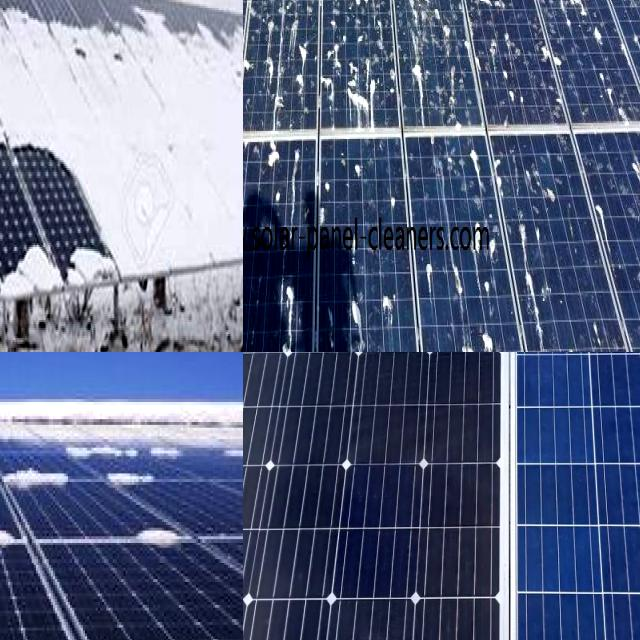bird: (517, 213, 552, 349), (407, 0, 447, 104), (337, 44, 385, 119), (589, 187, 620, 276), (261, 15, 289, 102), (465, 206, 504, 264), (275, 262, 297, 352), (398, 0, 437, 50), (332, 0, 376, 41), (630, 137, 640, 314), (525, 162, 559, 214), (243, 56, 266, 132), (243, 175, 265, 252), (243, 0, 267, 68), (452, 0, 497, 35), (269, 0, 307, 40), (348, 280, 369, 352), (380, 184, 410, 234), (243, 13, 259, 105), (294, 21, 312, 102), (374, 273, 396, 339), (455, 320, 500, 352), (349, 143, 374, 194), (492, 65, 520, 110), (243, 61, 260, 133), (592, 15, 612, 73), (243, 0, 262, 51), (243, 225, 257, 294), (556, 0, 588, 30), (318, 172, 348, 204), (243, 313, 265, 352), (243, 260, 259, 311), (260, 139, 283, 173), (243, 226, 264, 260), (243, 283, 258, 317), (478, 0, 508, 16), (243, 182, 253, 224), (243, 162, 255, 196)
crack: (243, 352, 551, 640), (506, 352, 640, 640)
panel: (0, 0, 105, 147), (101, 160, 226, 266), (112, 11, 204, 148), (42, 384, 222, 442), (0, 152, 66, 304), (0, 9, 53, 144), (0, 224, 58, 301), (214, 18, 243, 156), (1, 455, 93, 498), (0, 513, 59, 575), (0, 380, 69, 429), (110, 449, 165, 504), (0, 386, 67, 427), (128, 518, 190, 562), (66, 235, 113, 288), (0, 459, 66, 494), (0, 432, 39, 472), (0, 420, 23, 459), (0, 430, 11, 472)
